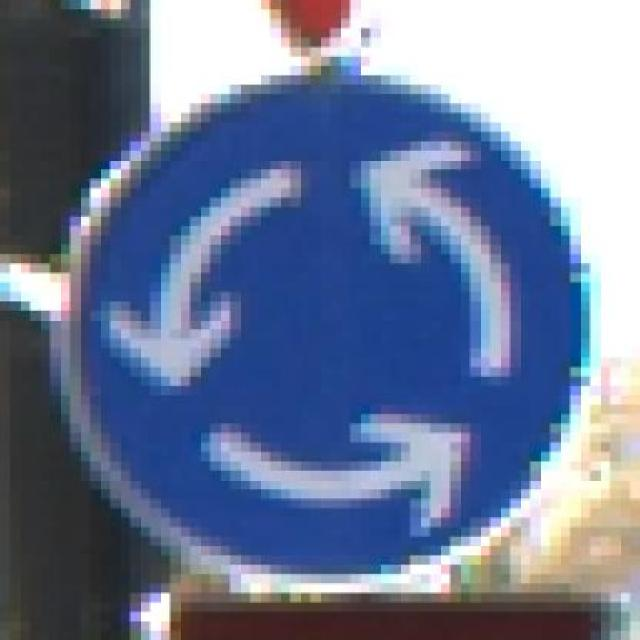Round-About: (40, 65, 600, 593)
